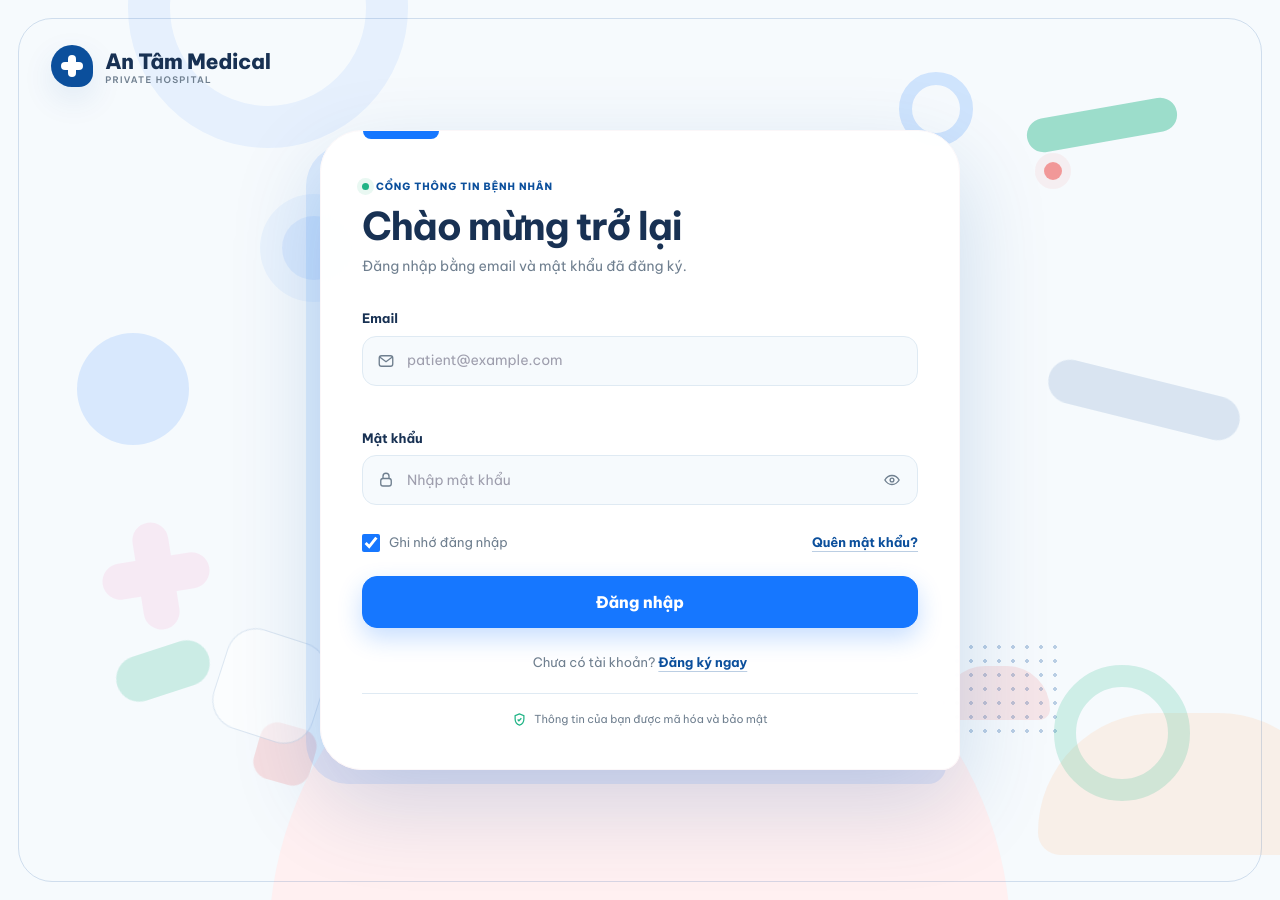
Scenario: AuthShell › shows field validation errors on invalid login submit
Click the button "Đăng nhập": [640, 602] box [362,576,918,628]
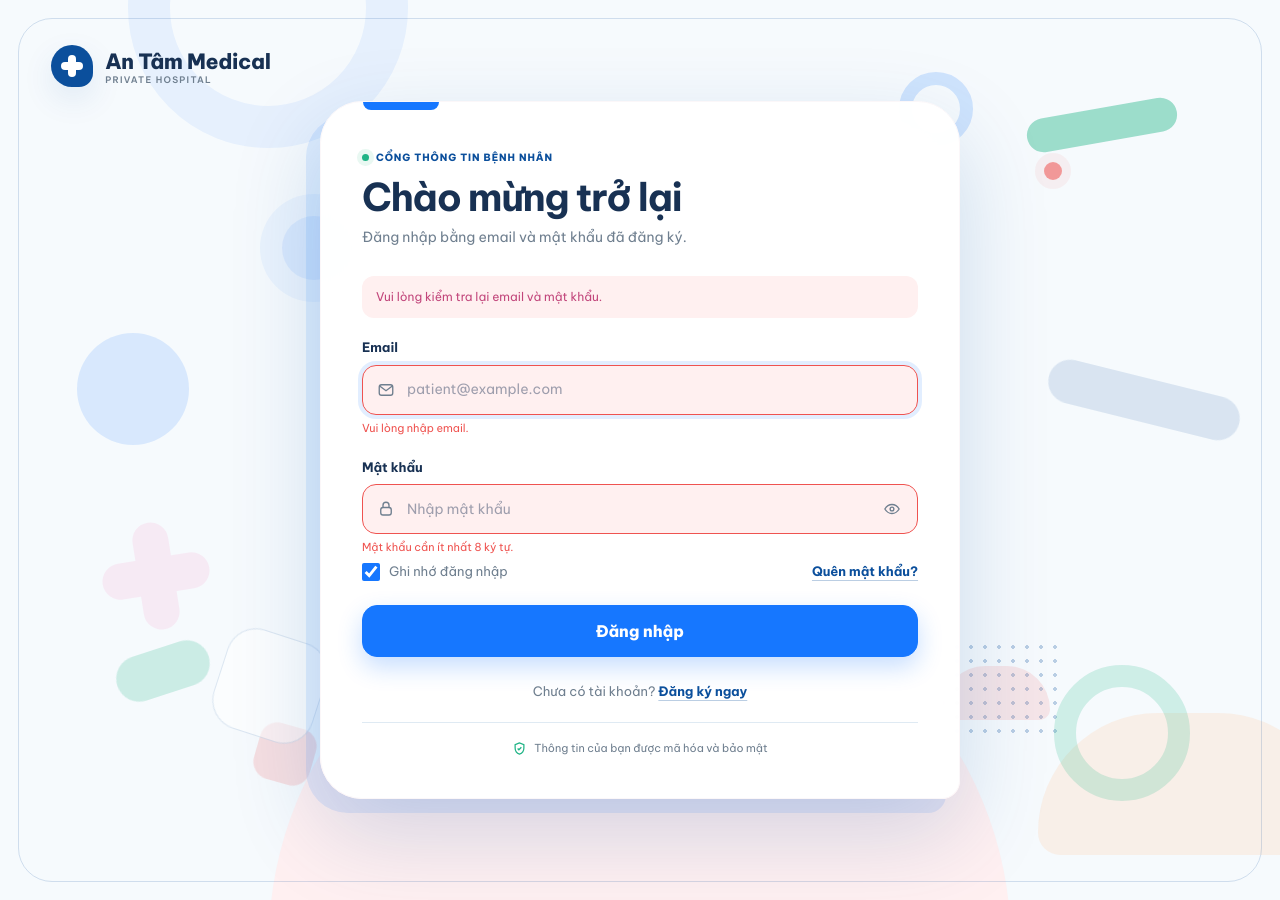
Result: the text "Vui lòng nhập email." is shown at [362,421,469,435]
Result: the text "Mật khẩu cần ít nhất 8 ký tự." is shown at [362,540,513,554]
